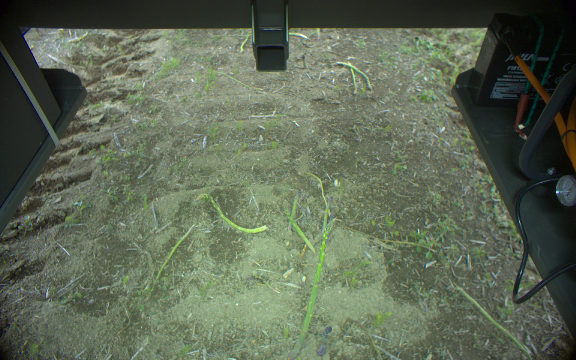aspa: (289, 218, 334, 358), (456, 278, 532, 359), (146, 224, 195, 290), (194, 192, 267, 234), (283, 208, 314, 256), (284, 186, 301, 236), (334, 166, 347, 209), (320, 194, 334, 230)
